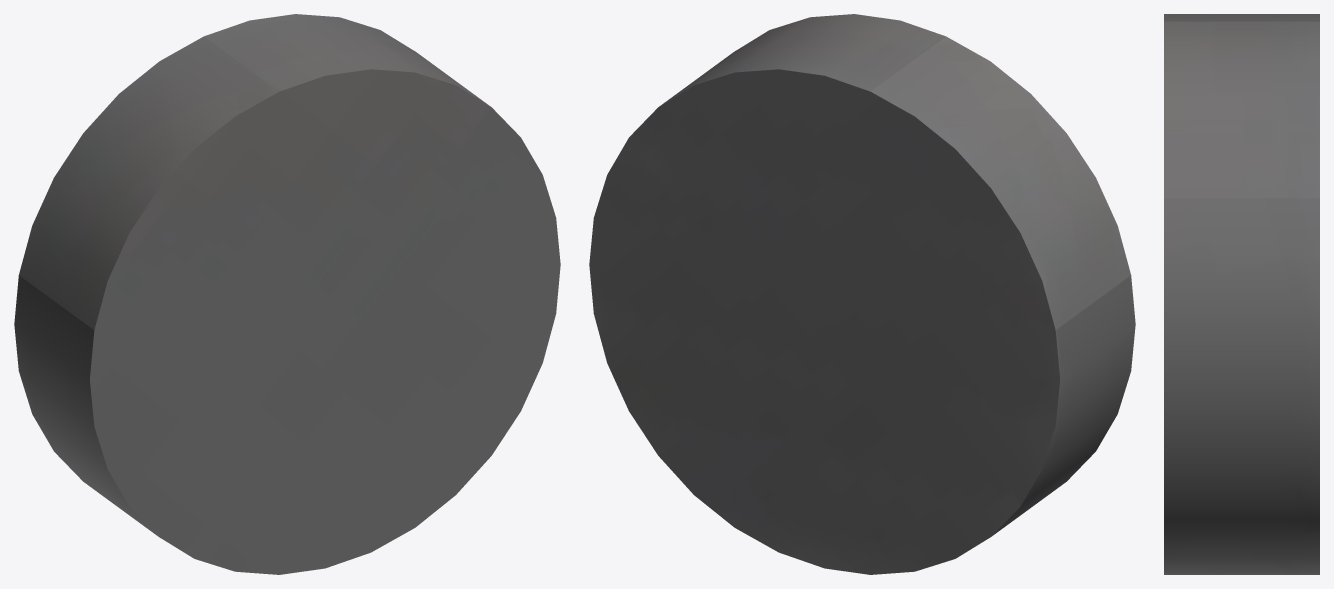
Rendered from action_button_1_0__button_cap.glb.
3 views of the same model, side by side, from view 1: azimuth 30°, elevation 25°; view 2: azimuth 150°, elevation 25°; view 3: azimuth 270°, elevation 25° (orthographic). The views are drawn at different scales.
Parts seen in each view (by area): view 1: geometry_0; view 2: geometry_0; view 3: geometry_0.
Part boxes in pixels (x1=…): geometry_0: x1=14, y1=14, x2=560, y2=574; geometry_0: x1=589, y1=14, x2=1135, y2=574; geometry_0: x1=1164, y1=14, x2=1319, y2=574.
Size of the model in its own units: 0.036 by 0.036 by 0.01.
Materials: 1 (1 with a texture image).
